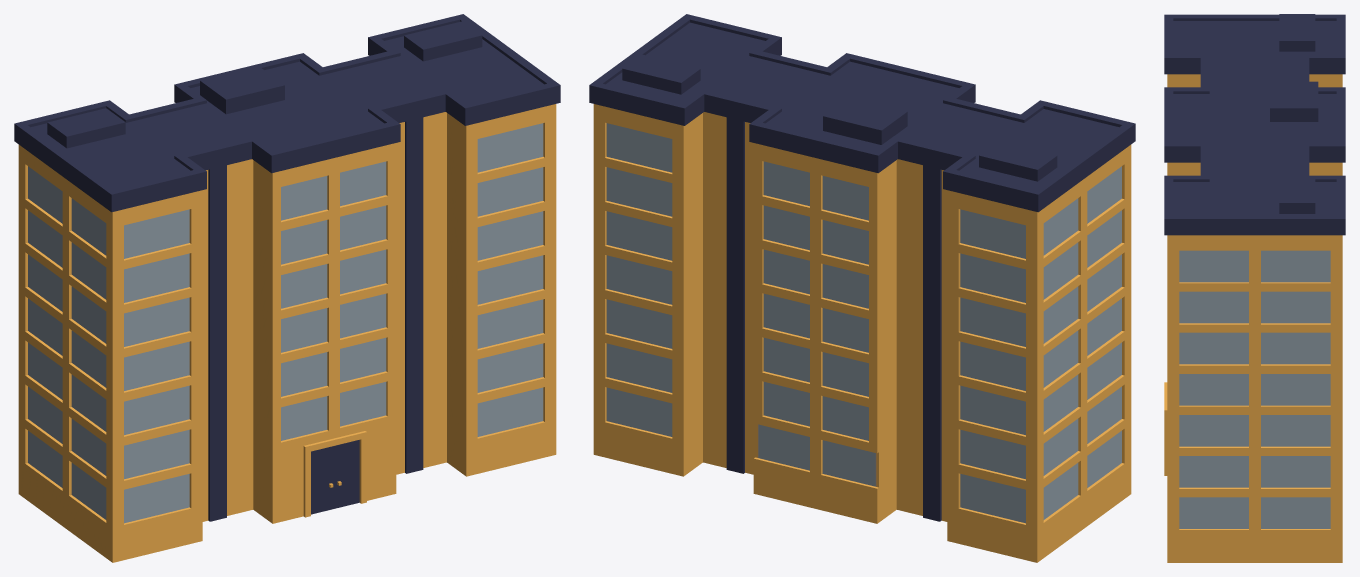
File: building_test3.fbx
3 renders of one model, left to right at view 1: azimuth 30°, elevation 25°; view 2: azimuth 150°, elevation 25°; view 3: azimuth 270°, elevation 25°, orthographic. The views are drawn at different scales.
Visible parts, largest first — view 1: Object; view 2: Object; view 3: Object.
Part boxes in pixels (box(x1,y1,x2,y2)): Object: box(14, 14, 560, 562); Object: box(589, 14, 1135, 562); Object: box(1164, 14, 1345, 562).
Bounding box in the file's own units: 160 × 130 × 60.
